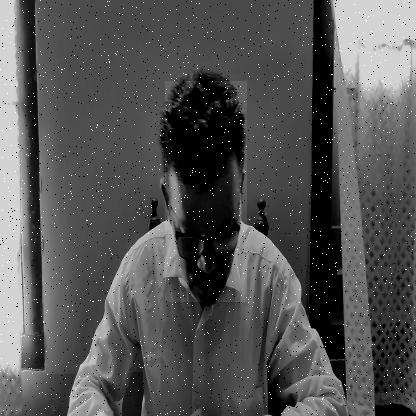Normal: (165, 81, 247, 302)
